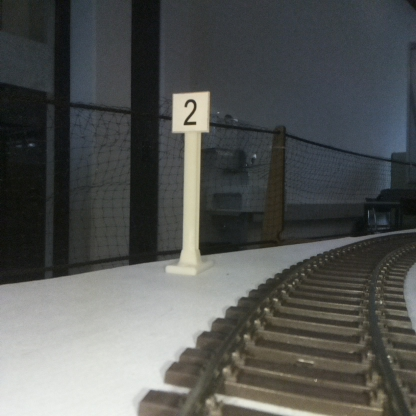white-info-2: (172, 92, 208, 271)
